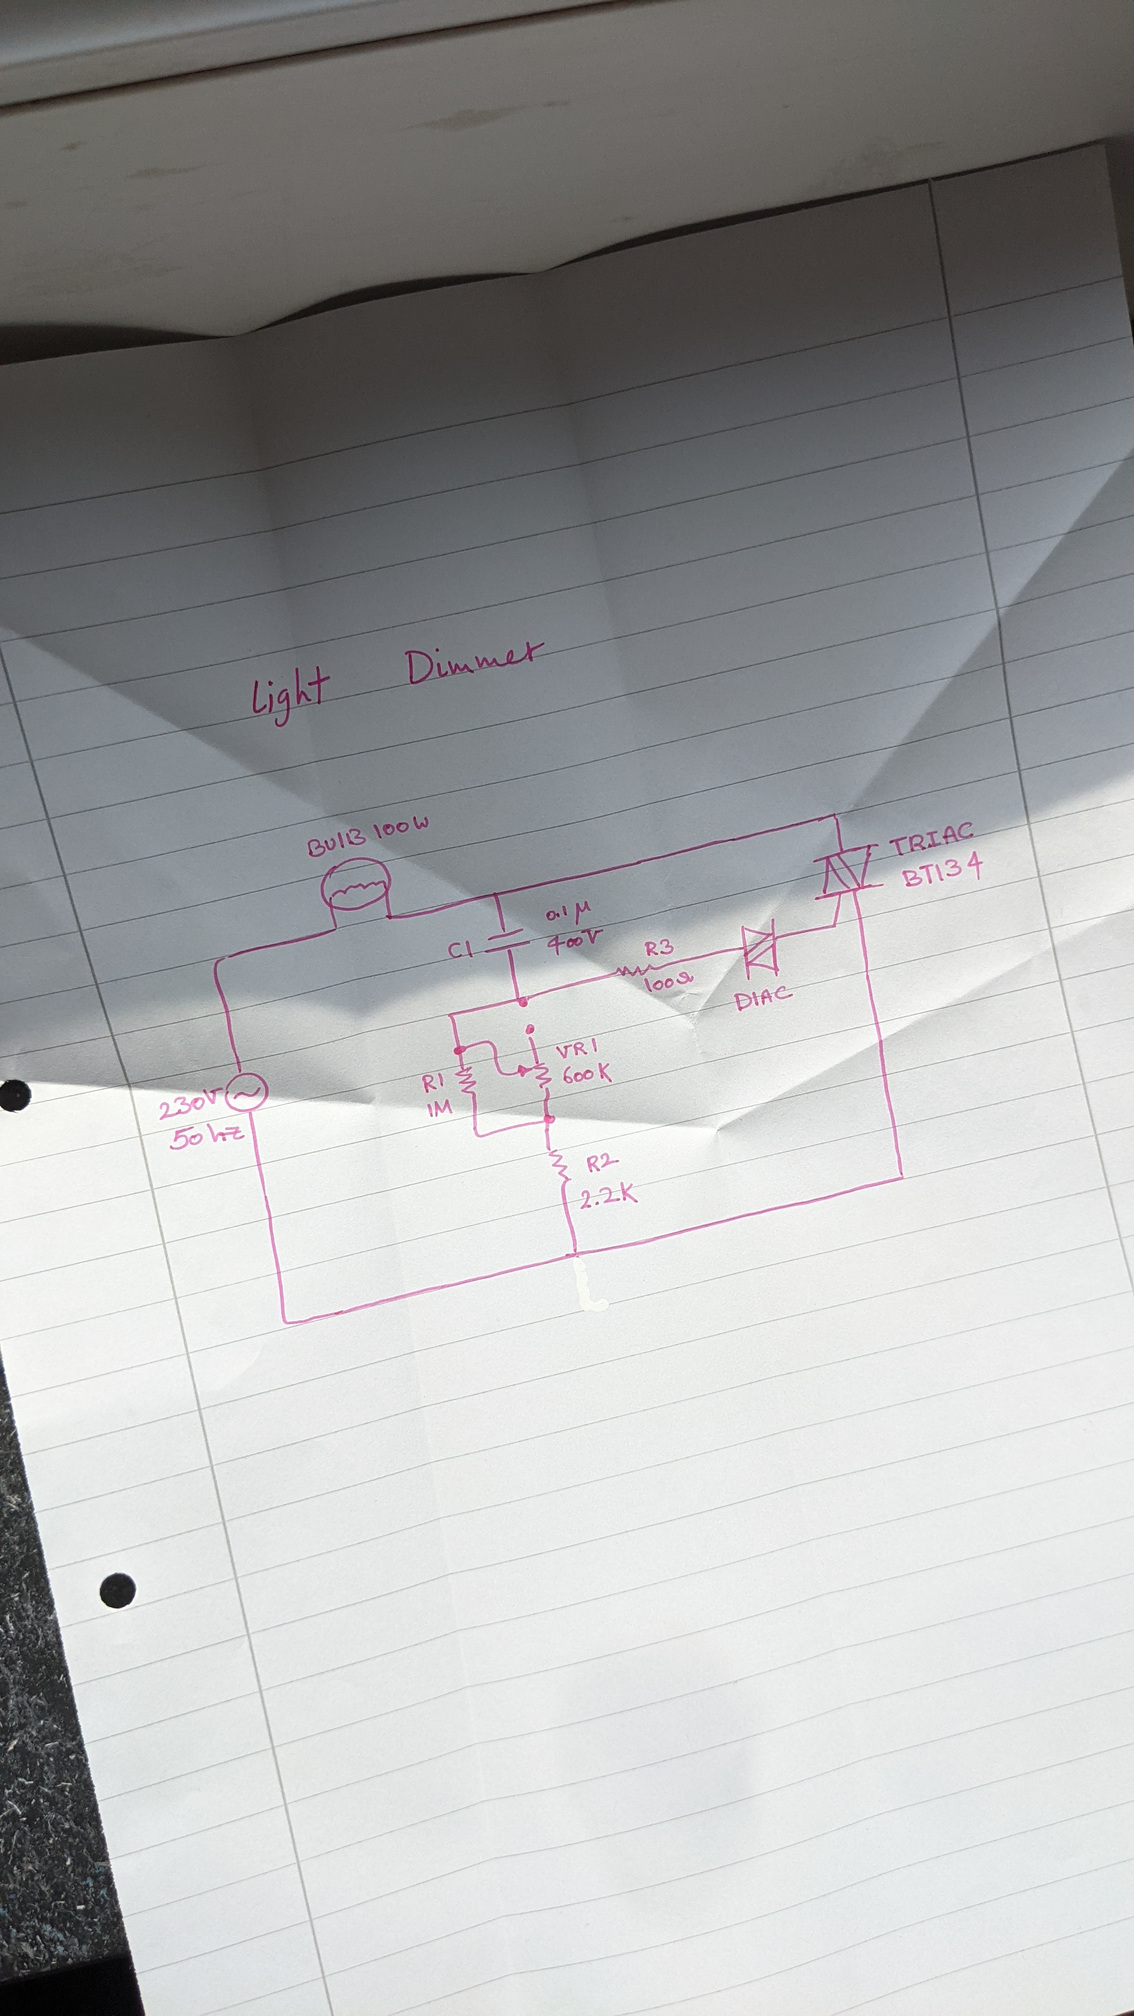capacitor.unpolarized: (482, 924, 536, 955)
diac: (738, 917, 784, 982)
junction: (209, 953, 235, 971), (511, 993, 532, 1009), (568, 1245, 587, 1261), (523, 1020, 539, 1038), (540, 1110, 557, 1126), (451, 1043, 469, 1056), (280, 1315, 296, 1329), (894, 1170, 910, 1184), (496, 1066, 510, 1080), (328, 921, 342, 935), (828, 809, 842, 822), (472, 1128, 487, 1141), (828, 919, 840, 932), (444, 1009, 458, 1020), (489, 889, 503, 900), (384, 912, 397, 924), (483, 1038, 498, 1047)
lamp: (318, 856, 393, 912)
resistor: (543, 1146, 575, 1189), (456, 1063, 480, 1099), (609, 961, 658, 979)
resistor.adjustable: (516, 1056, 555, 1094)
text: (246, 631, 548, 730), (305, 813, 433, 858), (900, 850, 984, 888), (888, 820, 975, 856), (166, 1119, 246, 1153), (156, 1086, 224, 1122), (577, 1180, 641, 1212), (732, 983, 795, 1014), (544, 928, 606, 957), (642, 969, 698, 994), (546, 899, 594, 926), (561, 1061, 613, 1086), (552, 1036, 601, 1061), (584, 1151, 622, 1173), (642, 935, 676, 958), (444, 937, 476, 961), (424, 1097, 454, 1120), (420, 1070, 446, 1095)
triac: (809, 840, 888, 915)
voltage.dc_ac: (223, 1069, 271, 1115)
